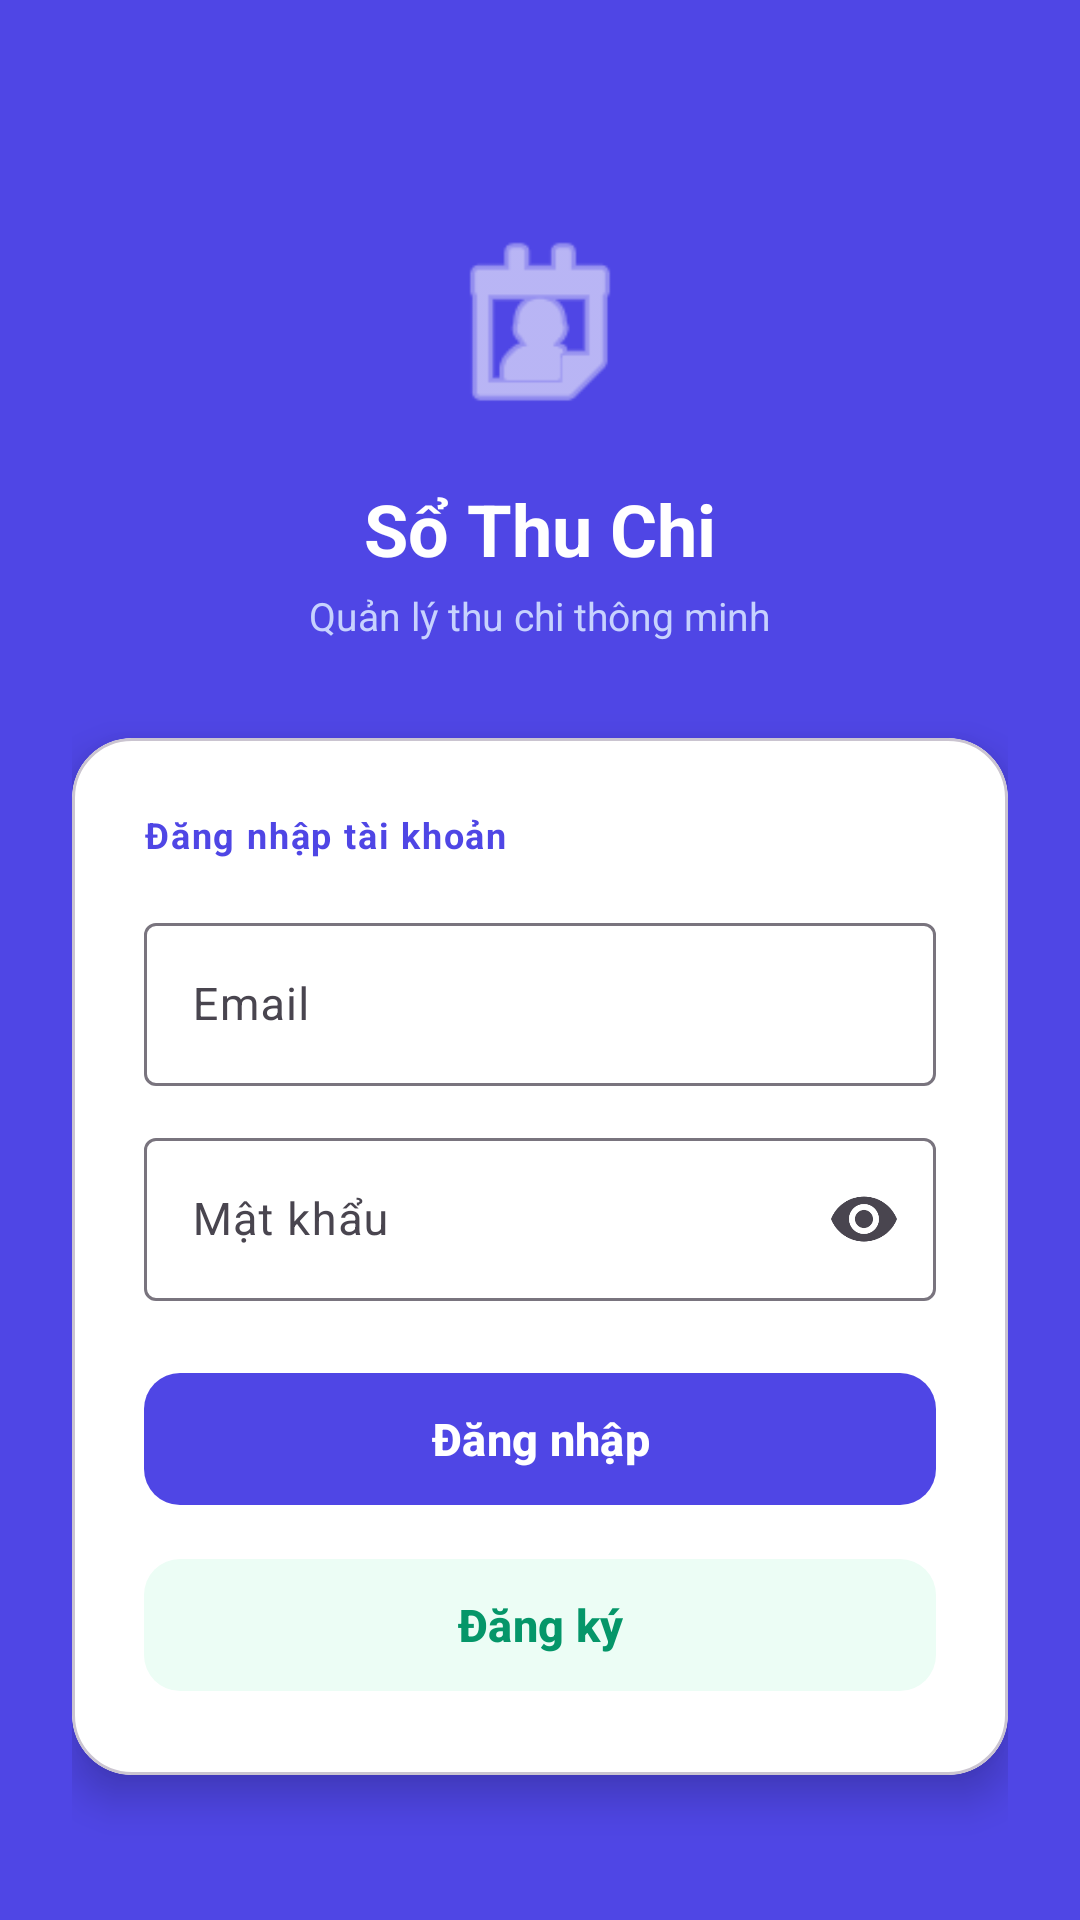

Icons on this 1080×1920 Android screen, each with its box as [x1, y1, x2, y2]:
calendar: [470, 243, 610, 401]
